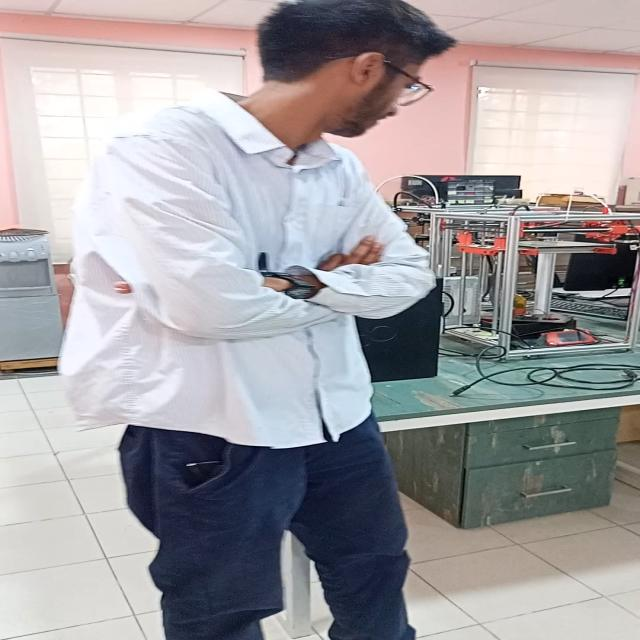dress: (47, 76, 443, 640)
glasses: (400, 71, 436, 109)
